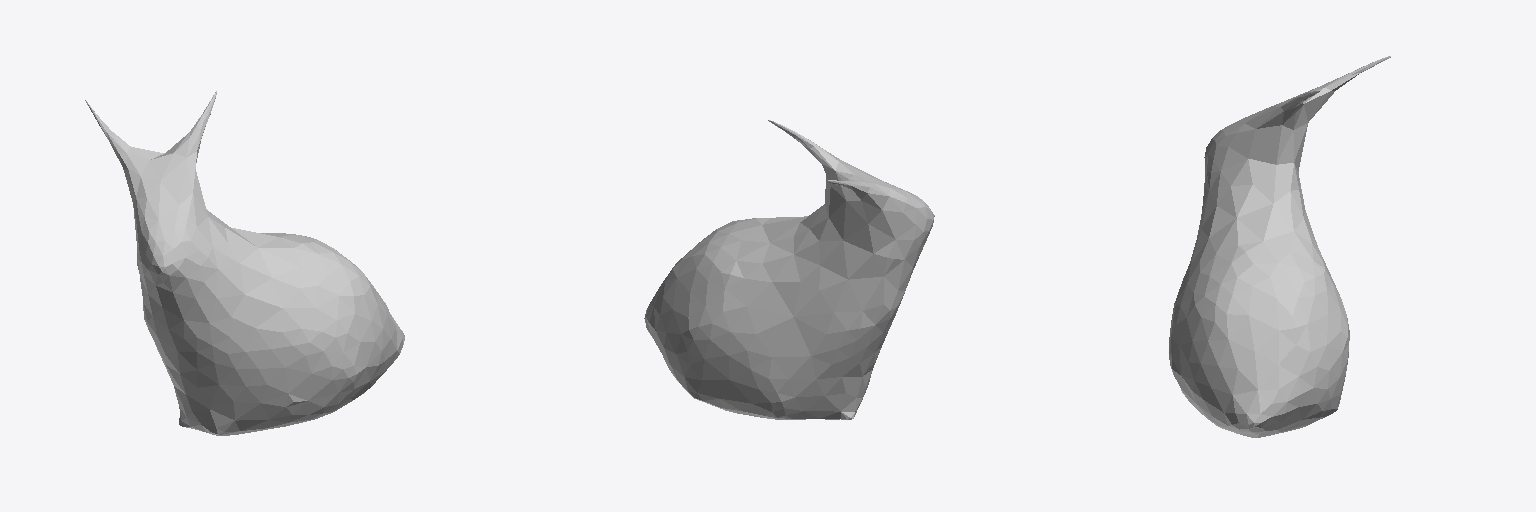
File: bunny_tiny_smoothed_10_smoothed_50.obj
3 renders of one model, left to right at view 1: azimuth 30°, elevation 25°; view 2: azimuth 150°, elevation 25°; view 3: azimuth 270°, elevation 25°, orthographic.
Size of the model in its own units: 7.26 by 7.99 by 5.19.